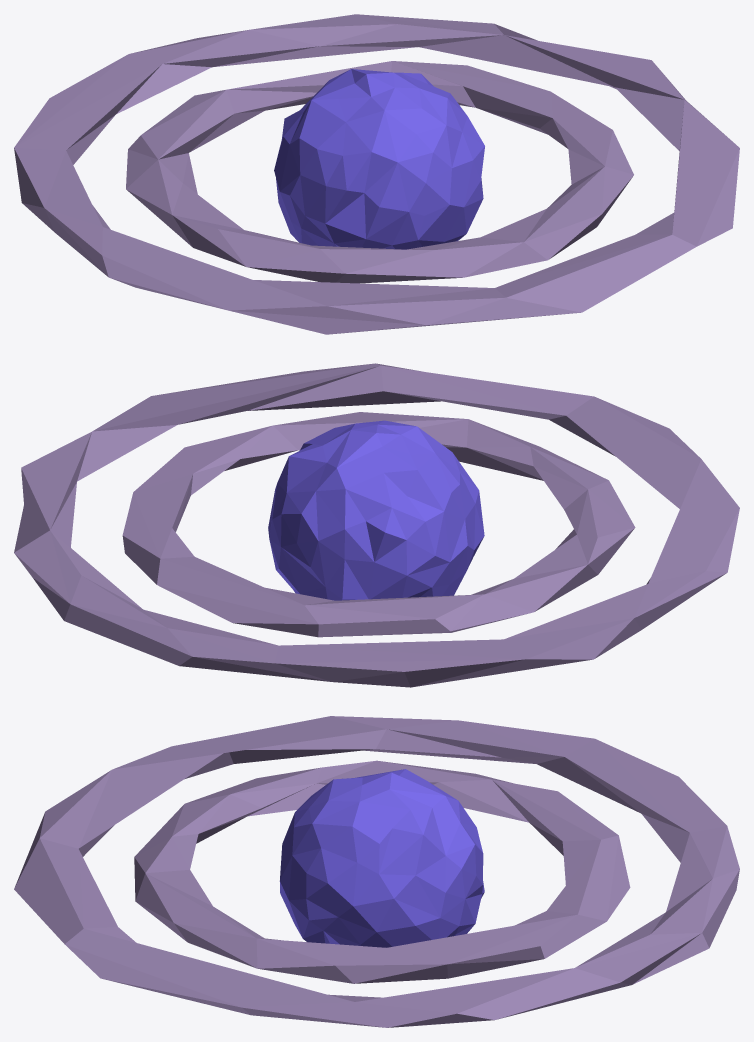
The model's file is ring_planet4.fbx.
The picture shows the model from 3 angles, top to bottom: view 1: azimuth 30°, elevation 25°; view 2: azimuth 150°, elevation 25°; view 3: azimuth 270°, elevation 25°; orthographic projection. The views are drawn at different scales.
Visible parts, largest first — view 1: ring_planet4; view 2: ring_planet4; view 3: ring_planet4.
Part boxes in pixels (box(x1,y1,x2,y2)): ring_planet4: box(14, 14, 739, 334); ring_planet4: box(14, 363, 739, 687); ring_planet4: box(14, 716, 739, 1027).
Bounding box in the file's own units: 647 × 191 × 661.
